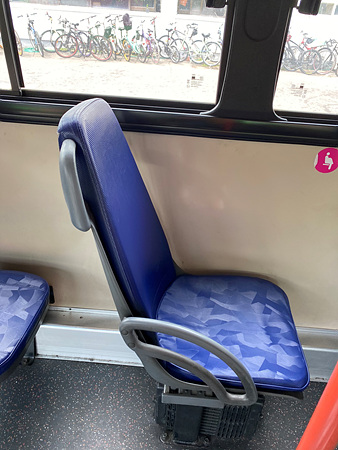seat: (60, 94, 307, 406)
